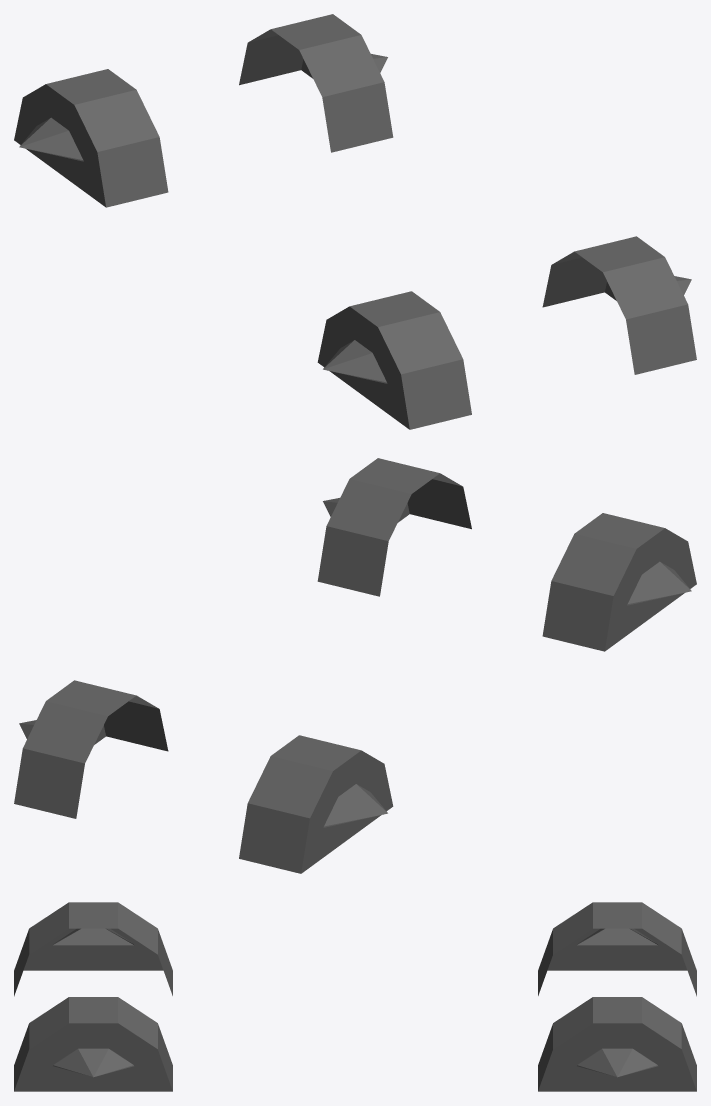
The model's file is wheelGuards3.glb.
3 renders of one model, top to bottom at view 1: azimuth 30°, elevation 25°; view 2: azimuth 150°, elevation 25°; view 3: azimuth 270°, elevation 25°, orthographic. The views are drawn at different scales.
Visible parts, largest first — view 1: wheelguards3; view 2: wheelguards3; view 3: wheelguards3.
Boxes of the visible parts, left/top/right/bottom form: wheelguards3: left=14, top=14, right=696, bottom=429; wheelguards3: left=14, top=458, right=696, bottom=873; wheelguards3: left=14, top=902, right=696, bottom=1091.
Size of the model in its own units: 4.44 by 0.9124 by 8.24.
1 material, 1 textured.
